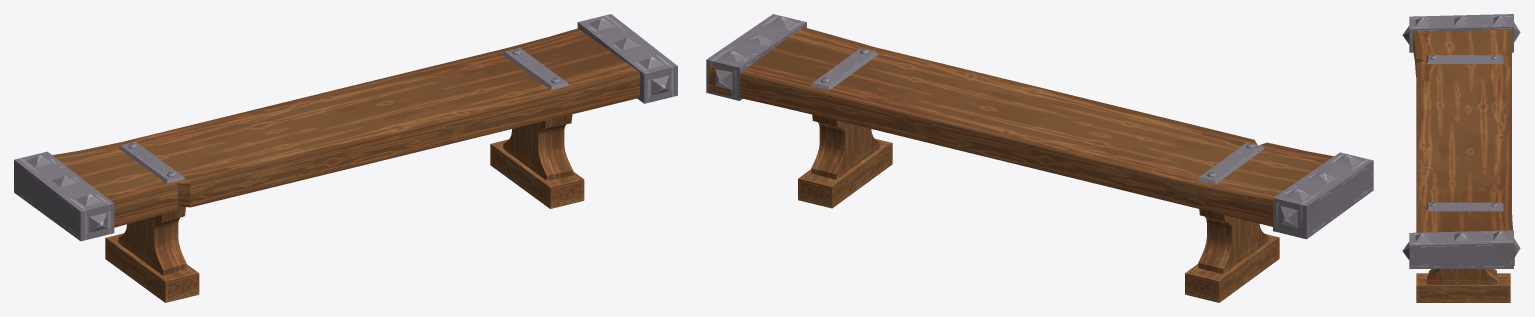
Rendered from Bench_MetalSides.fbx.
3 renders of one model, left to right at view 1: azimuth 30°, elevation 25°; view 2: azimuth 150°, elevation 25°; view 3: azimuth 270°, elevation 25°, orthographic. The views are drawn at different scales.
Visible parts, largest first — view 1: Bench_MetalSides; view 2: Bench_MetalSides; view 3: Bench_MetalSides.
Boxes of the visible parts, <box> form: Bench_MetalSides: <box>14,14,677,302</box>; Bench_MetalSides: <box>706,14,1373,302</box>; Bench_MetalSides: <box>1402,14,1520,302</box>.
Size of the model in its own units: 283 by 57.1 by 61.64.
